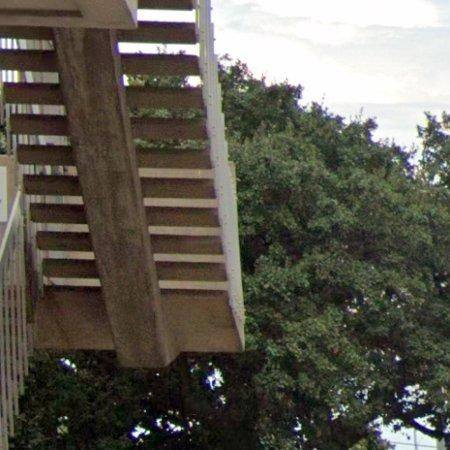stairs: (0, 0, 245, 369)
